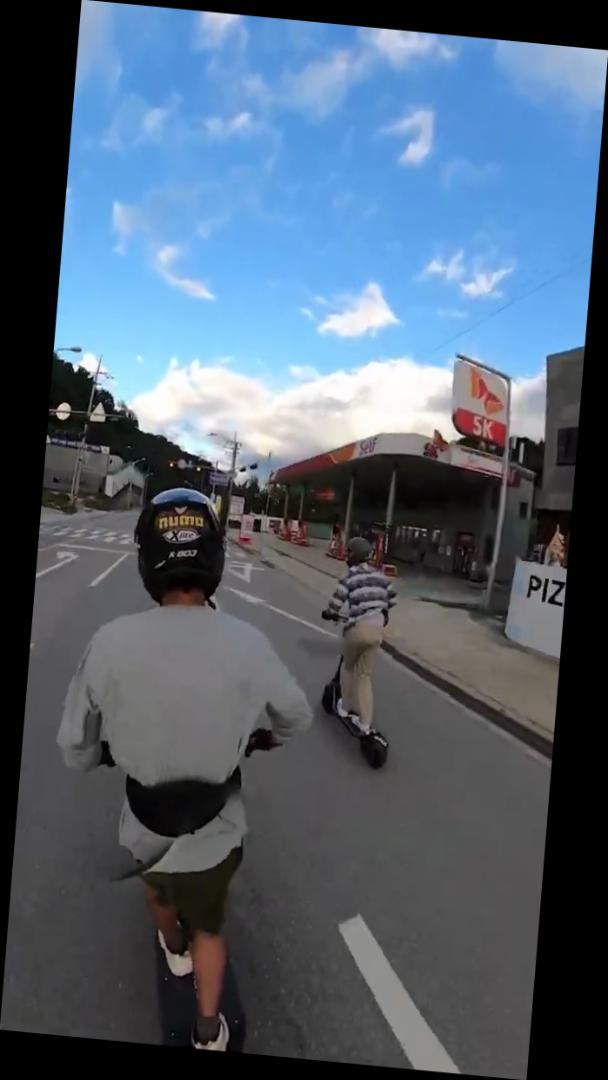helmet: (32, 475, 333, 1057), (308, 532, 411, 773)
